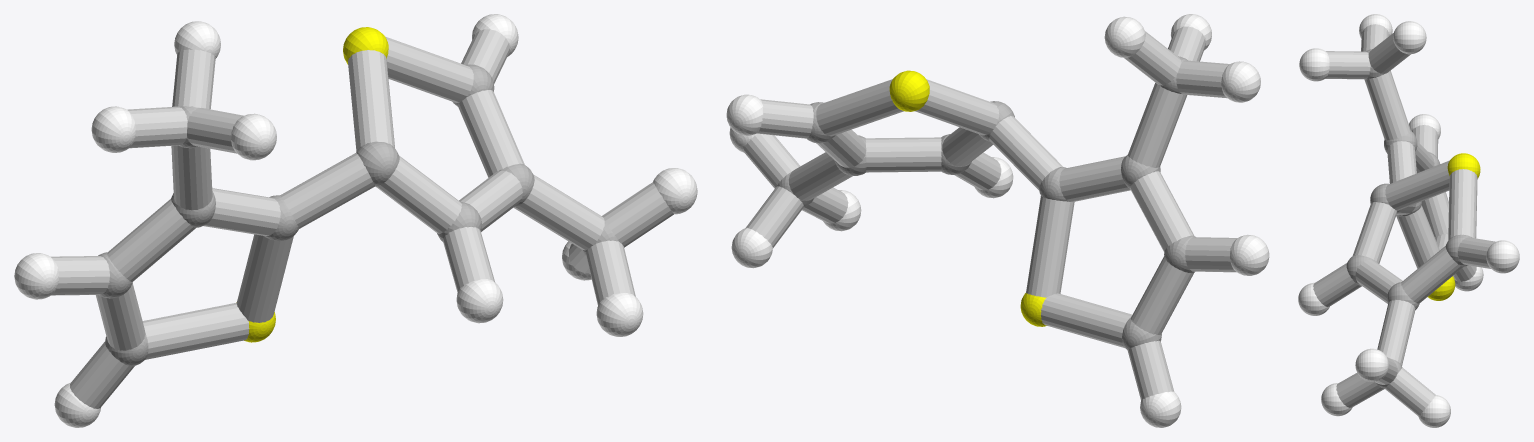
The model's file is Methylthiophene_Phi_50_Theta_300_Methylthiophene.glb.
3 views of the same model, side by side, from view 1: azimuth 30°, elevation 25°; view 2: azimuth 150°, elevation 25°; view 3: azimuth 270°, elevation 25° (orthographic). The views are drawn at different scales.
Visible parts, largest first — view 1: grp7965, grp3621, grp1, grp7241; view 2: grp7965, grp3621, grp1, grp7241; view 3: grp7965, grp3621, grp1, grp7241.
Part boxes in pixels (x1,y1,x2,y2): grp7965: [50, 29, 673, 408]; grp3621: [14, 14, 697, 427]; grp1: [98, 64, 618, 366]; grp7241: [236, 27, 388, 342]; grp7965: [743, 26, 1237, 400]; grp3621: [726, 14, 1269, 427]; grp1: [777, 56, 1195, 349]; grp7241: [889, 70, 1046, 326]; grp7965: [1313, 24, 1495, 415]; grp3621: [1298, 14, 1519, 427]; grp1: [1346, 49, 1472, 388]; grp7241: [1428, 153, 1480, 300].
Bounding box in the file's own units: 9.47 × 5.82 × 3.96.
